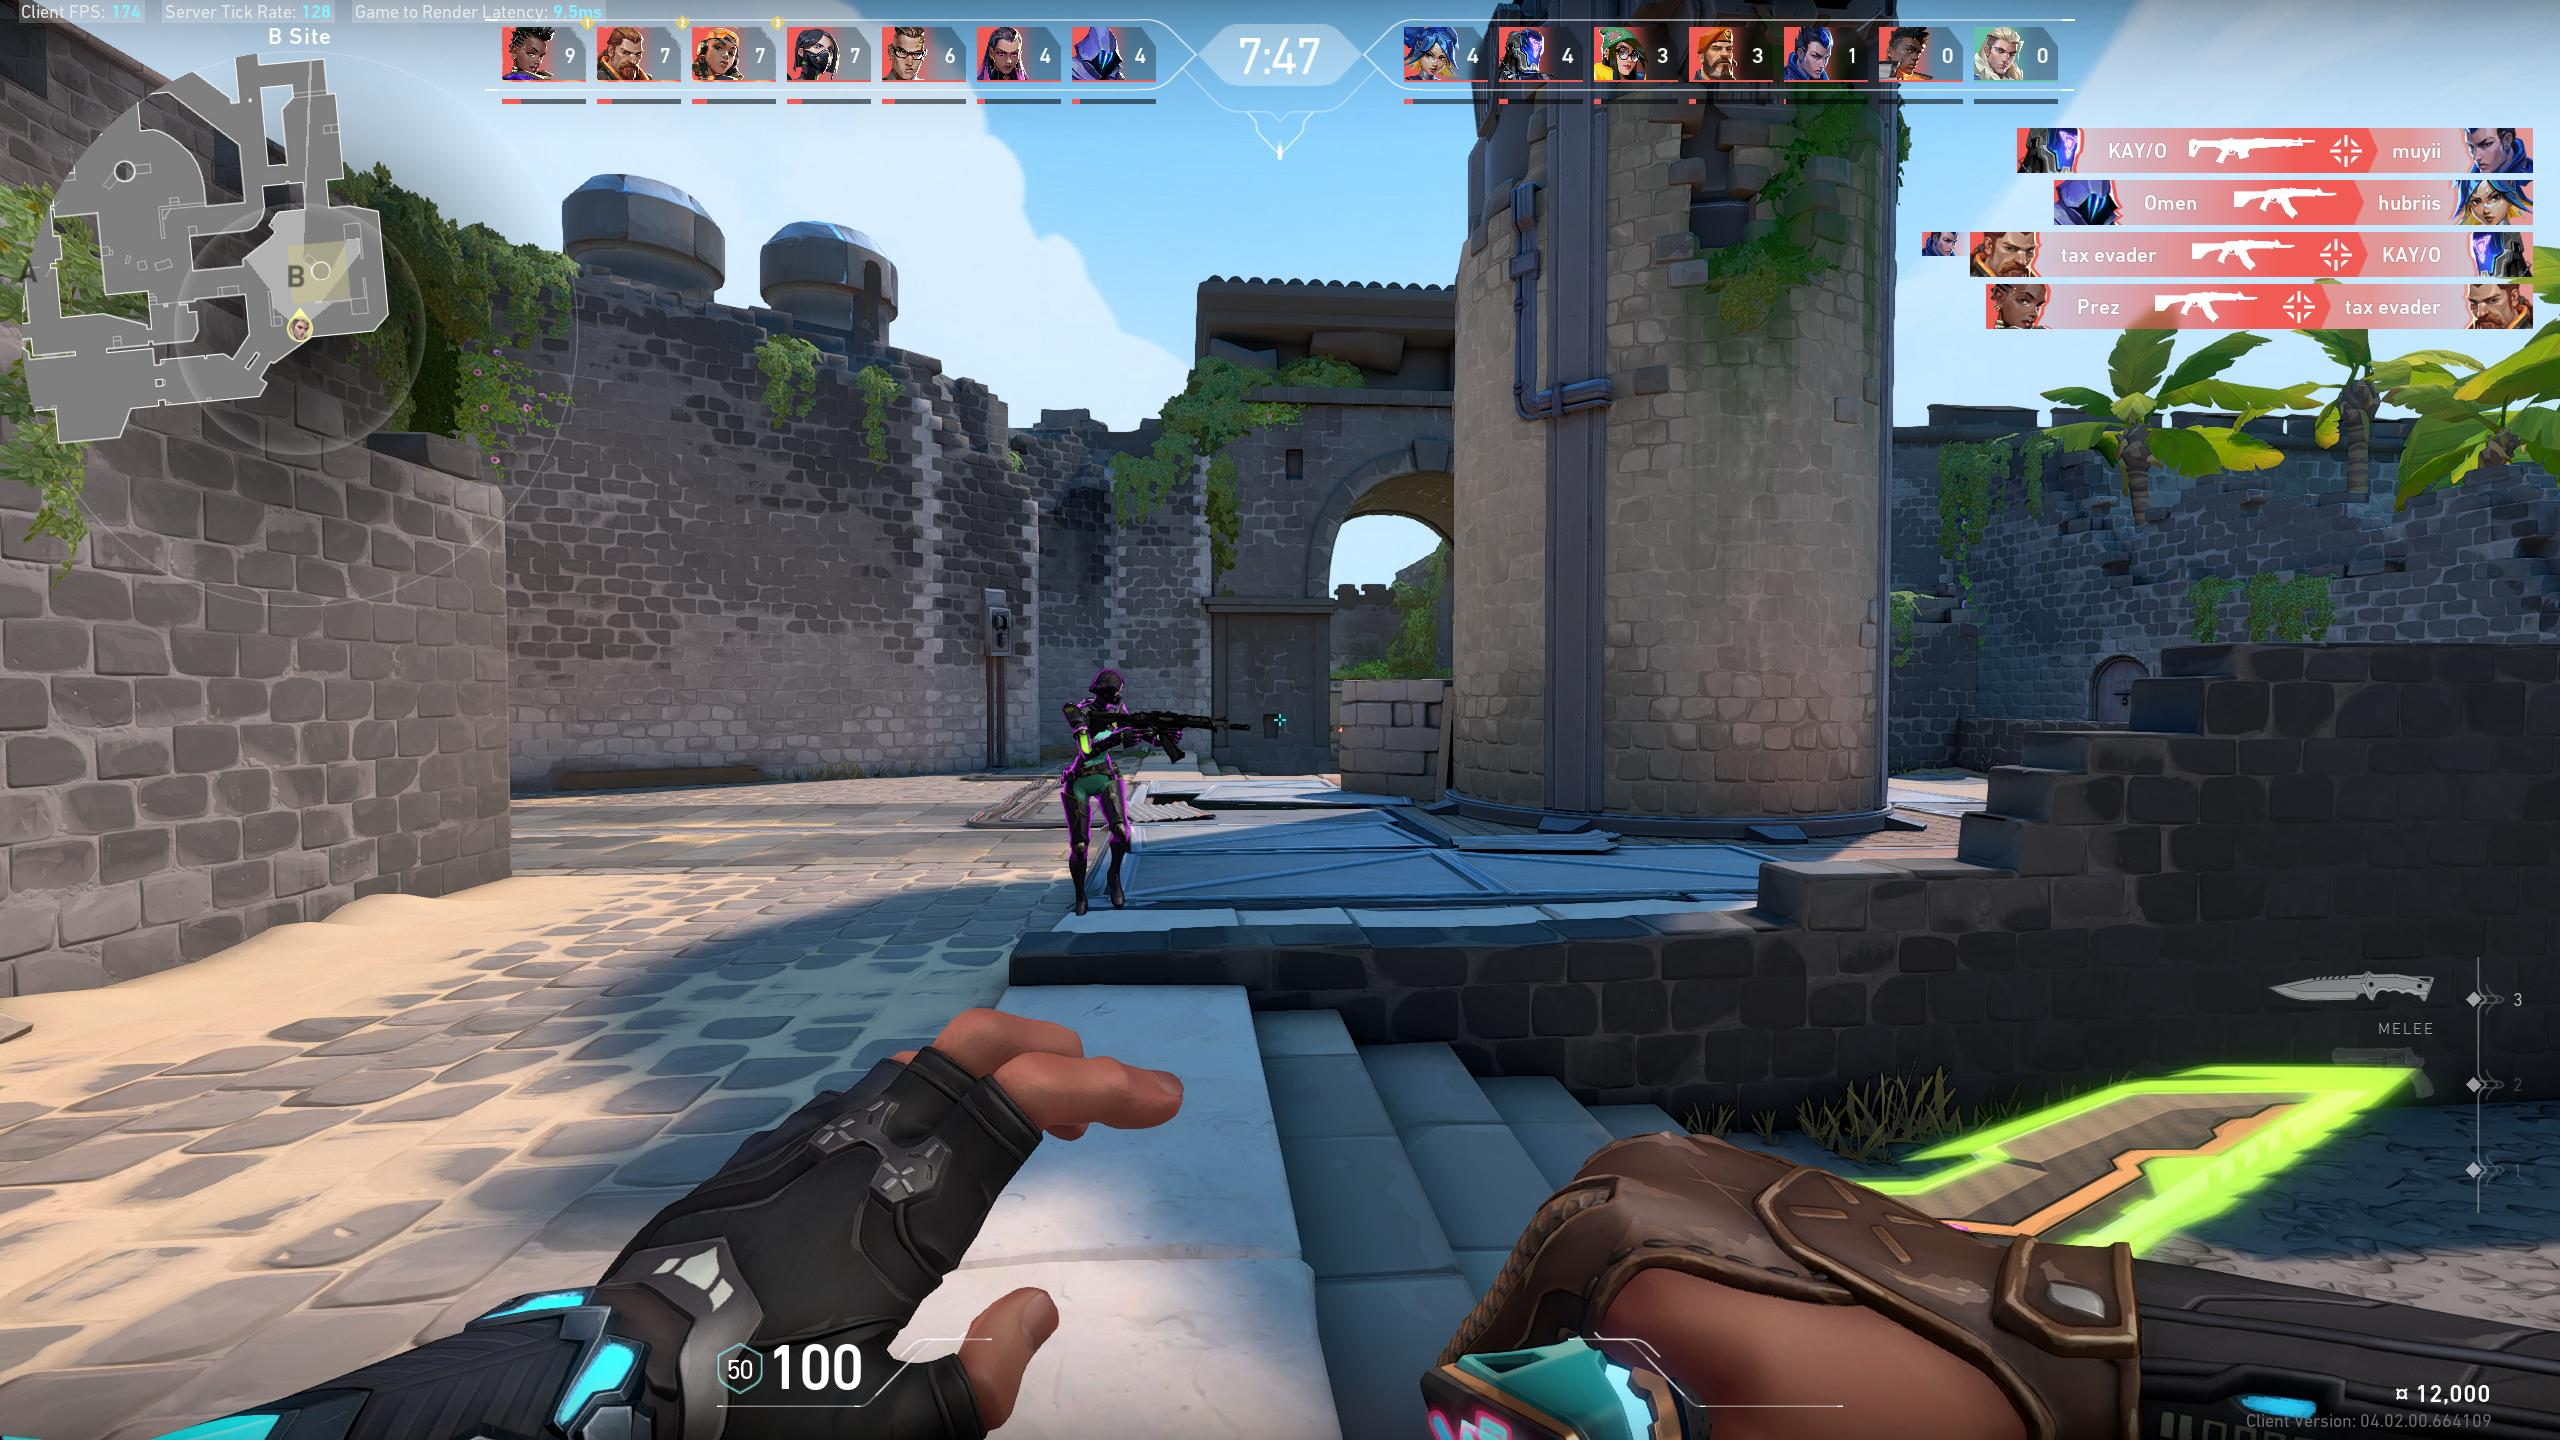enemyBody: (1078, 709, 1109, 791)
enemyHead: (1097, 675, 1120, 698)
